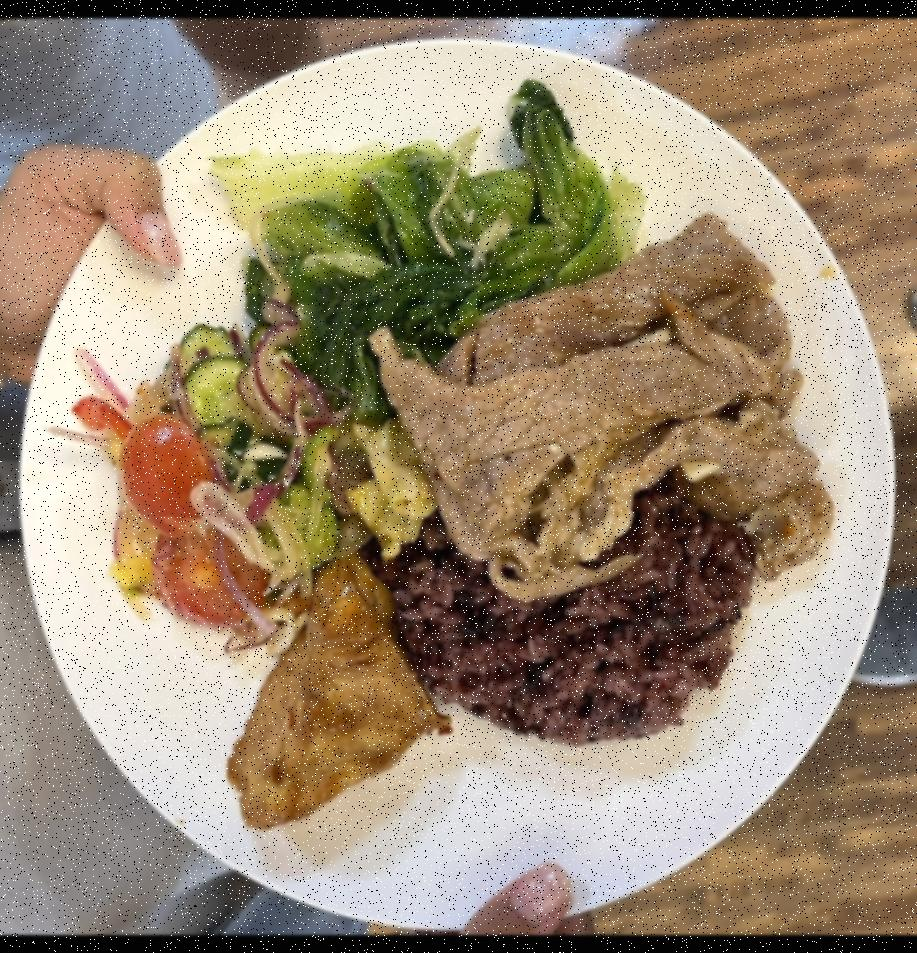plate: (33, 23, 897, 926)
purple rice: (388, 442, 752, 751)
sauteed pork: (369, 226, 831, 595)
side dish: (199, 93, 646, 402), (82, 279, 314, 636), (220, 548, 442, 830)
